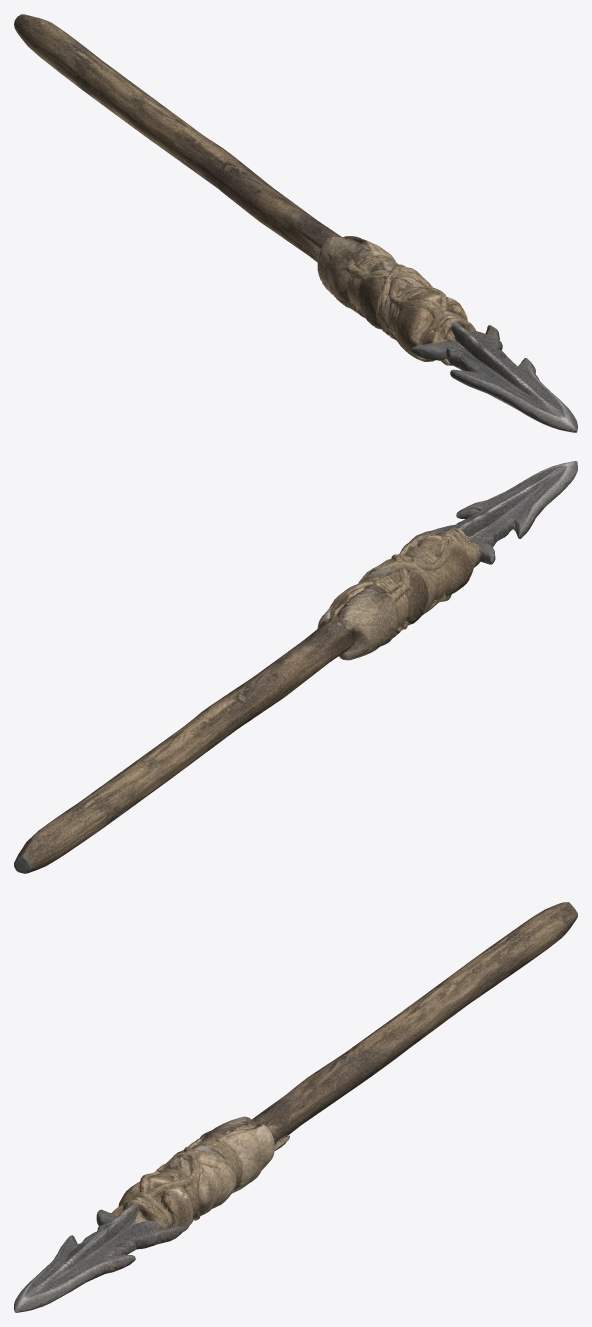
File: spear.glb
The picture shows the model from 3 angles, top to bottom: view 1: azimuth 30°, elevation 25°; view 2: azimuth 150°, elevation 25°; view 3: azimuth 330°, elevation 25°; orthographic projection.
Visible parts, largest first — view 1: model, mesh_lod; view 2: model, mesh_lod; view 3: model, mesh_lod.
Boxes of the visible parts, x1,y1,x2,y2 form: model: (14,14,577,432); mesh_lod: (18,14,575,431); model: (14,461,577,873); mesh_lod: (15,461,577,873); model: (14,902,577,1312); mesh_lod: (14,902,577,1310).
Size of the model in its own units: 0.1709 by 0.1279 by 2.
1 material, 1 textured.
